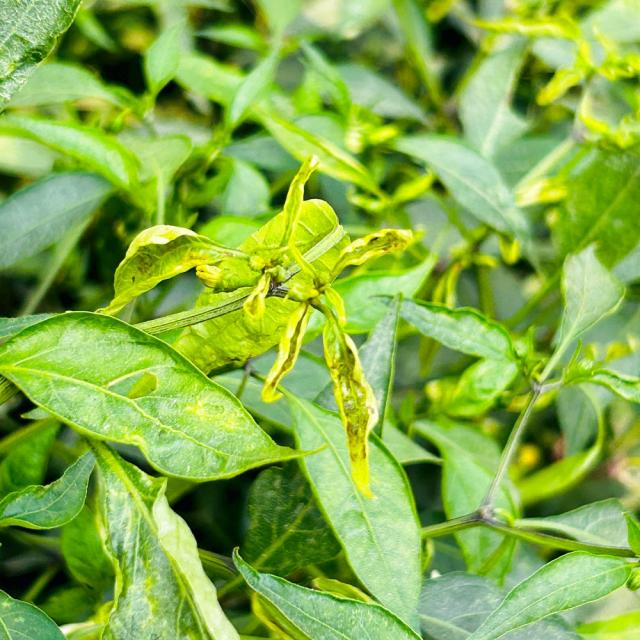Chilli_Leaf_Curl: (1, 1, 638, 638), (96, 154, 418, 497), (0, 308, 328, 484), (230, 545, 423, 638)
